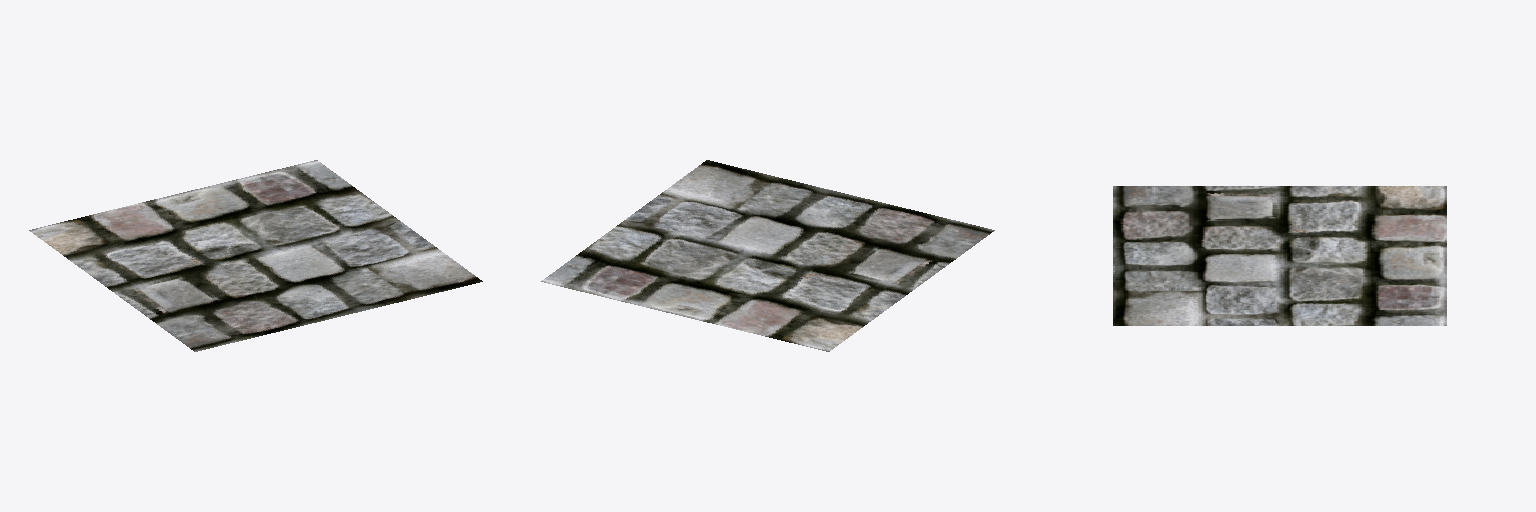
3 views of the same model, side by side, from view 1: azimuth 30°, elevation 25°; view 2: azimuth 150°, elevation 25°; view 3: azimuth 270°, elevation 25° (orthographic).
Visible parts, largest first — view 1: Grid.001_Grid; view 2: Grid.001_Grid; view 3: Grid.001_Grid.
Boxes of the visible parts, x1,y1,x2,y2 form: Grid.001_Grid: [29, 160, 482, 351]; Grid.001_Grid: [541, 160, 994, 351]; Grid.001_Grid: [1113, 186, 1446, 325].
Bounding box in the file's own units: 4 × 0 × 4.
1 materials, 1 textured.